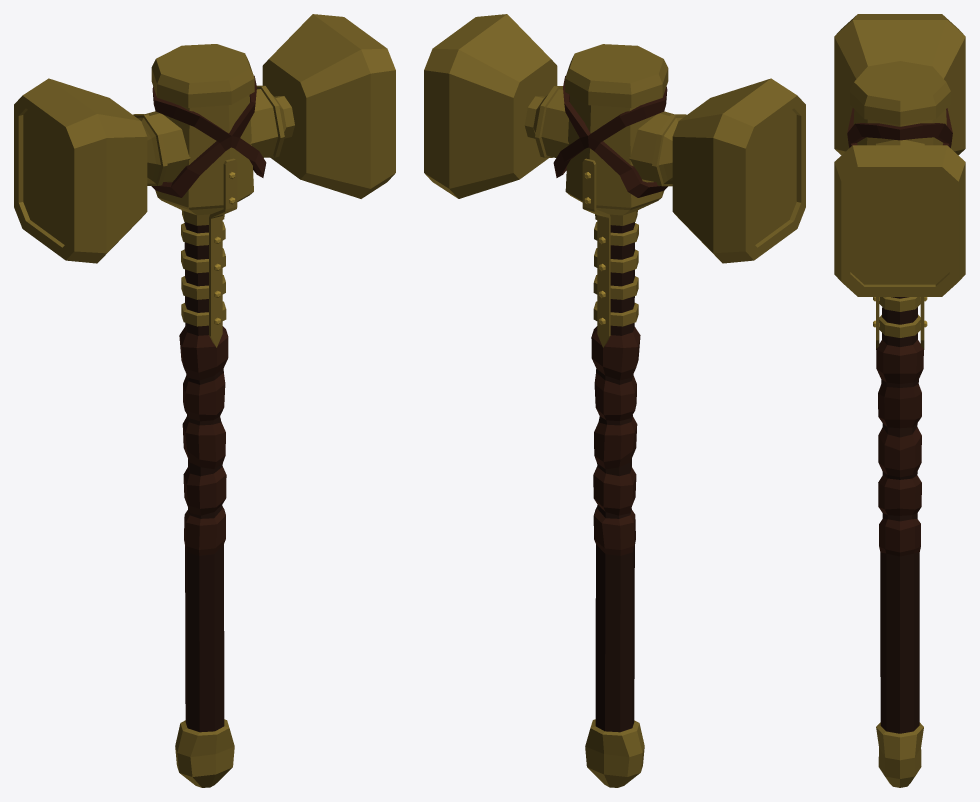
File: Hammer_Double_Golden.glb
3 renders of one model, left to right at view 1: azimuth 30°, elevation 25°; view 2: azimuth 150°, elevation 25°; view 3: azimuth 270°, elevation 25°, orthographic. The views are drawn at different scales.
Parts seen in each view (by area): view 1: Hammer_Double_Golden; view 2: Hammer_Double_Golden; view 3: Hammer_Double_Golden.
Part boxes in pixels (box(x1,y1,x2,y2)): Hammer_Double_Golden: box(14, 14, 395, 787); Hammer_Double_Golden: box(424, 14, 805, 787); Hammer_Double_Golden: box(834, 14, 965, 787).
Size of the model in its own units: 0.3546 by 0.759 by 0.1289.
